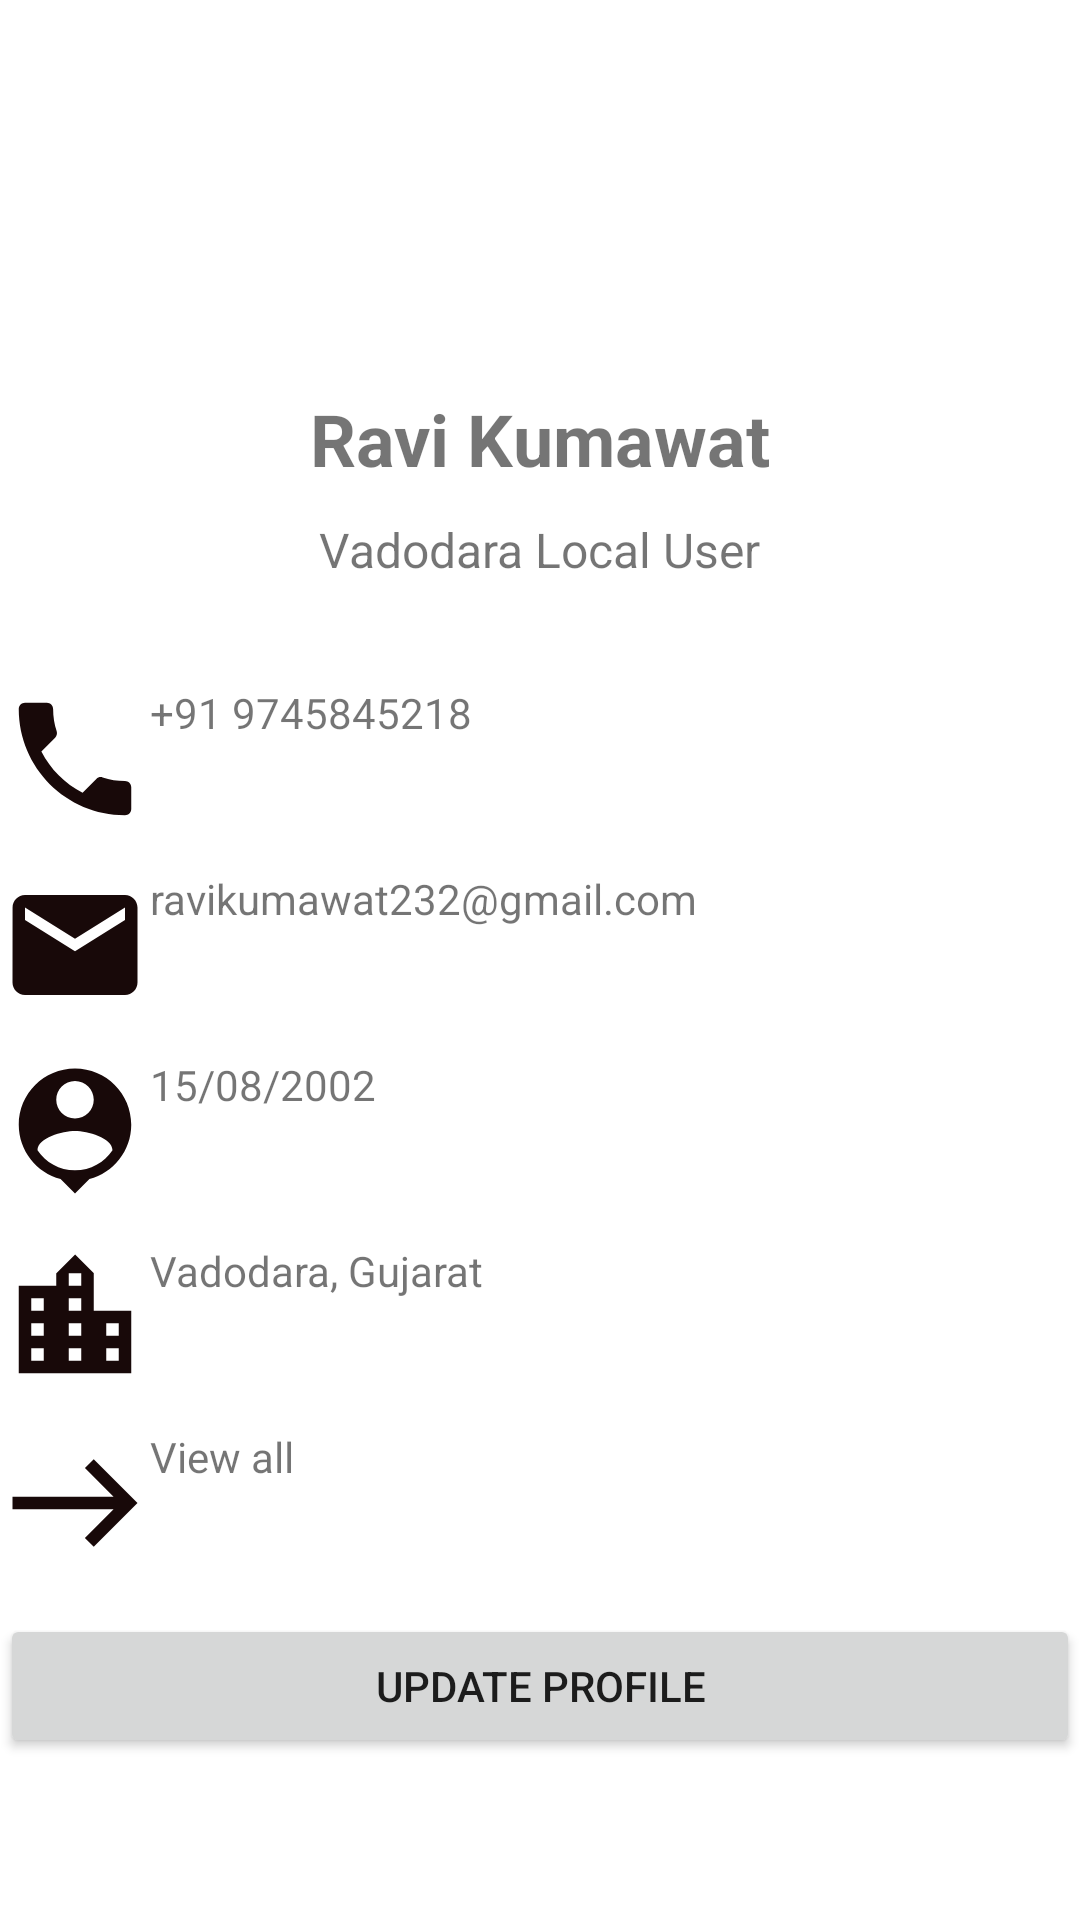

Named icons in this screenshot (1080x1920) and their bounding boxes, rect(x1, y1, x2, y2):
east: rect(12, 1459, 138, 1547)
email: rect(12, 895, 138, 995)
local phone: rect(18, 702, 132, 816)
location city: rect(18, 1254, 132, 1374)
person pin: rect(18, 1068, 132, 1194)
